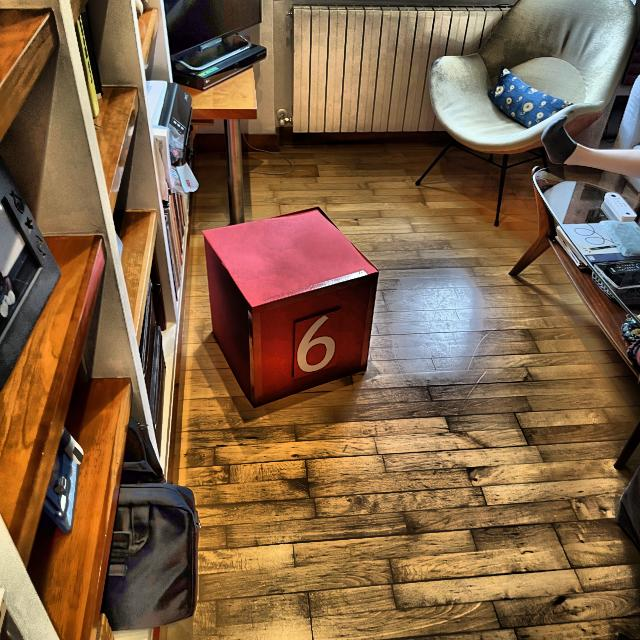red box: (206, 208, 380, 412)
six: (295, 314, 336, 374)
